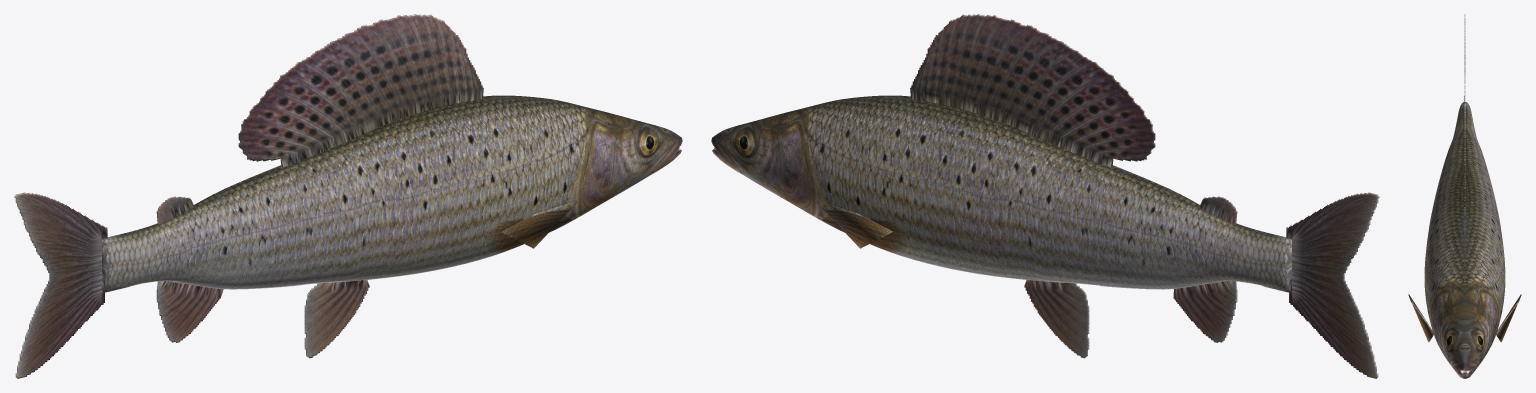
The model's file is grayling.glb.
3 views of the same model, side by side, from view 1: azimuth 30°, elevation 25°; view 2: azimuth 150°, elevation 25°; view 3: azimuth 270°, elevation 25° (orthographic). The views are drawn at different scales.
Visible parts, largest first — view 1: grayling_realistic.003; view 2: grayling_realistic.003; view 3: grayling_realistic.003.
Boxes of the visible parts, bbox=[...] form: grayling_realistic.003: bbox=[14, 14, 682, 378]; grayling_realistic.003: bbox=[711, 14, 1379, 378]; grayling_realistic.003: bbox=[1408, 14, 1521, 378].
Size of the model in its own units: 1 by 0.4594 by 0.1799.
3 materials, 3 textured.
